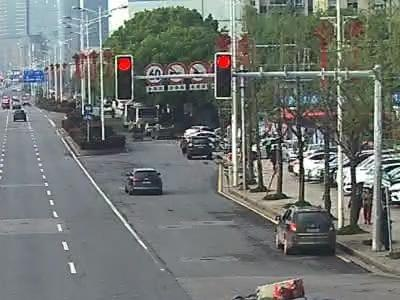red: (215, 50, 234, 73), (115, 53, 133, 73)
